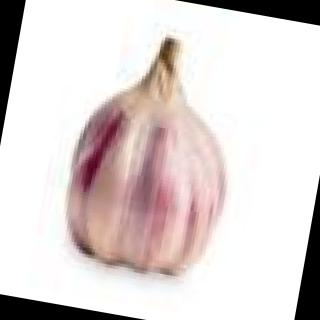Bawang Putih: (35, 17, 284, 305)
